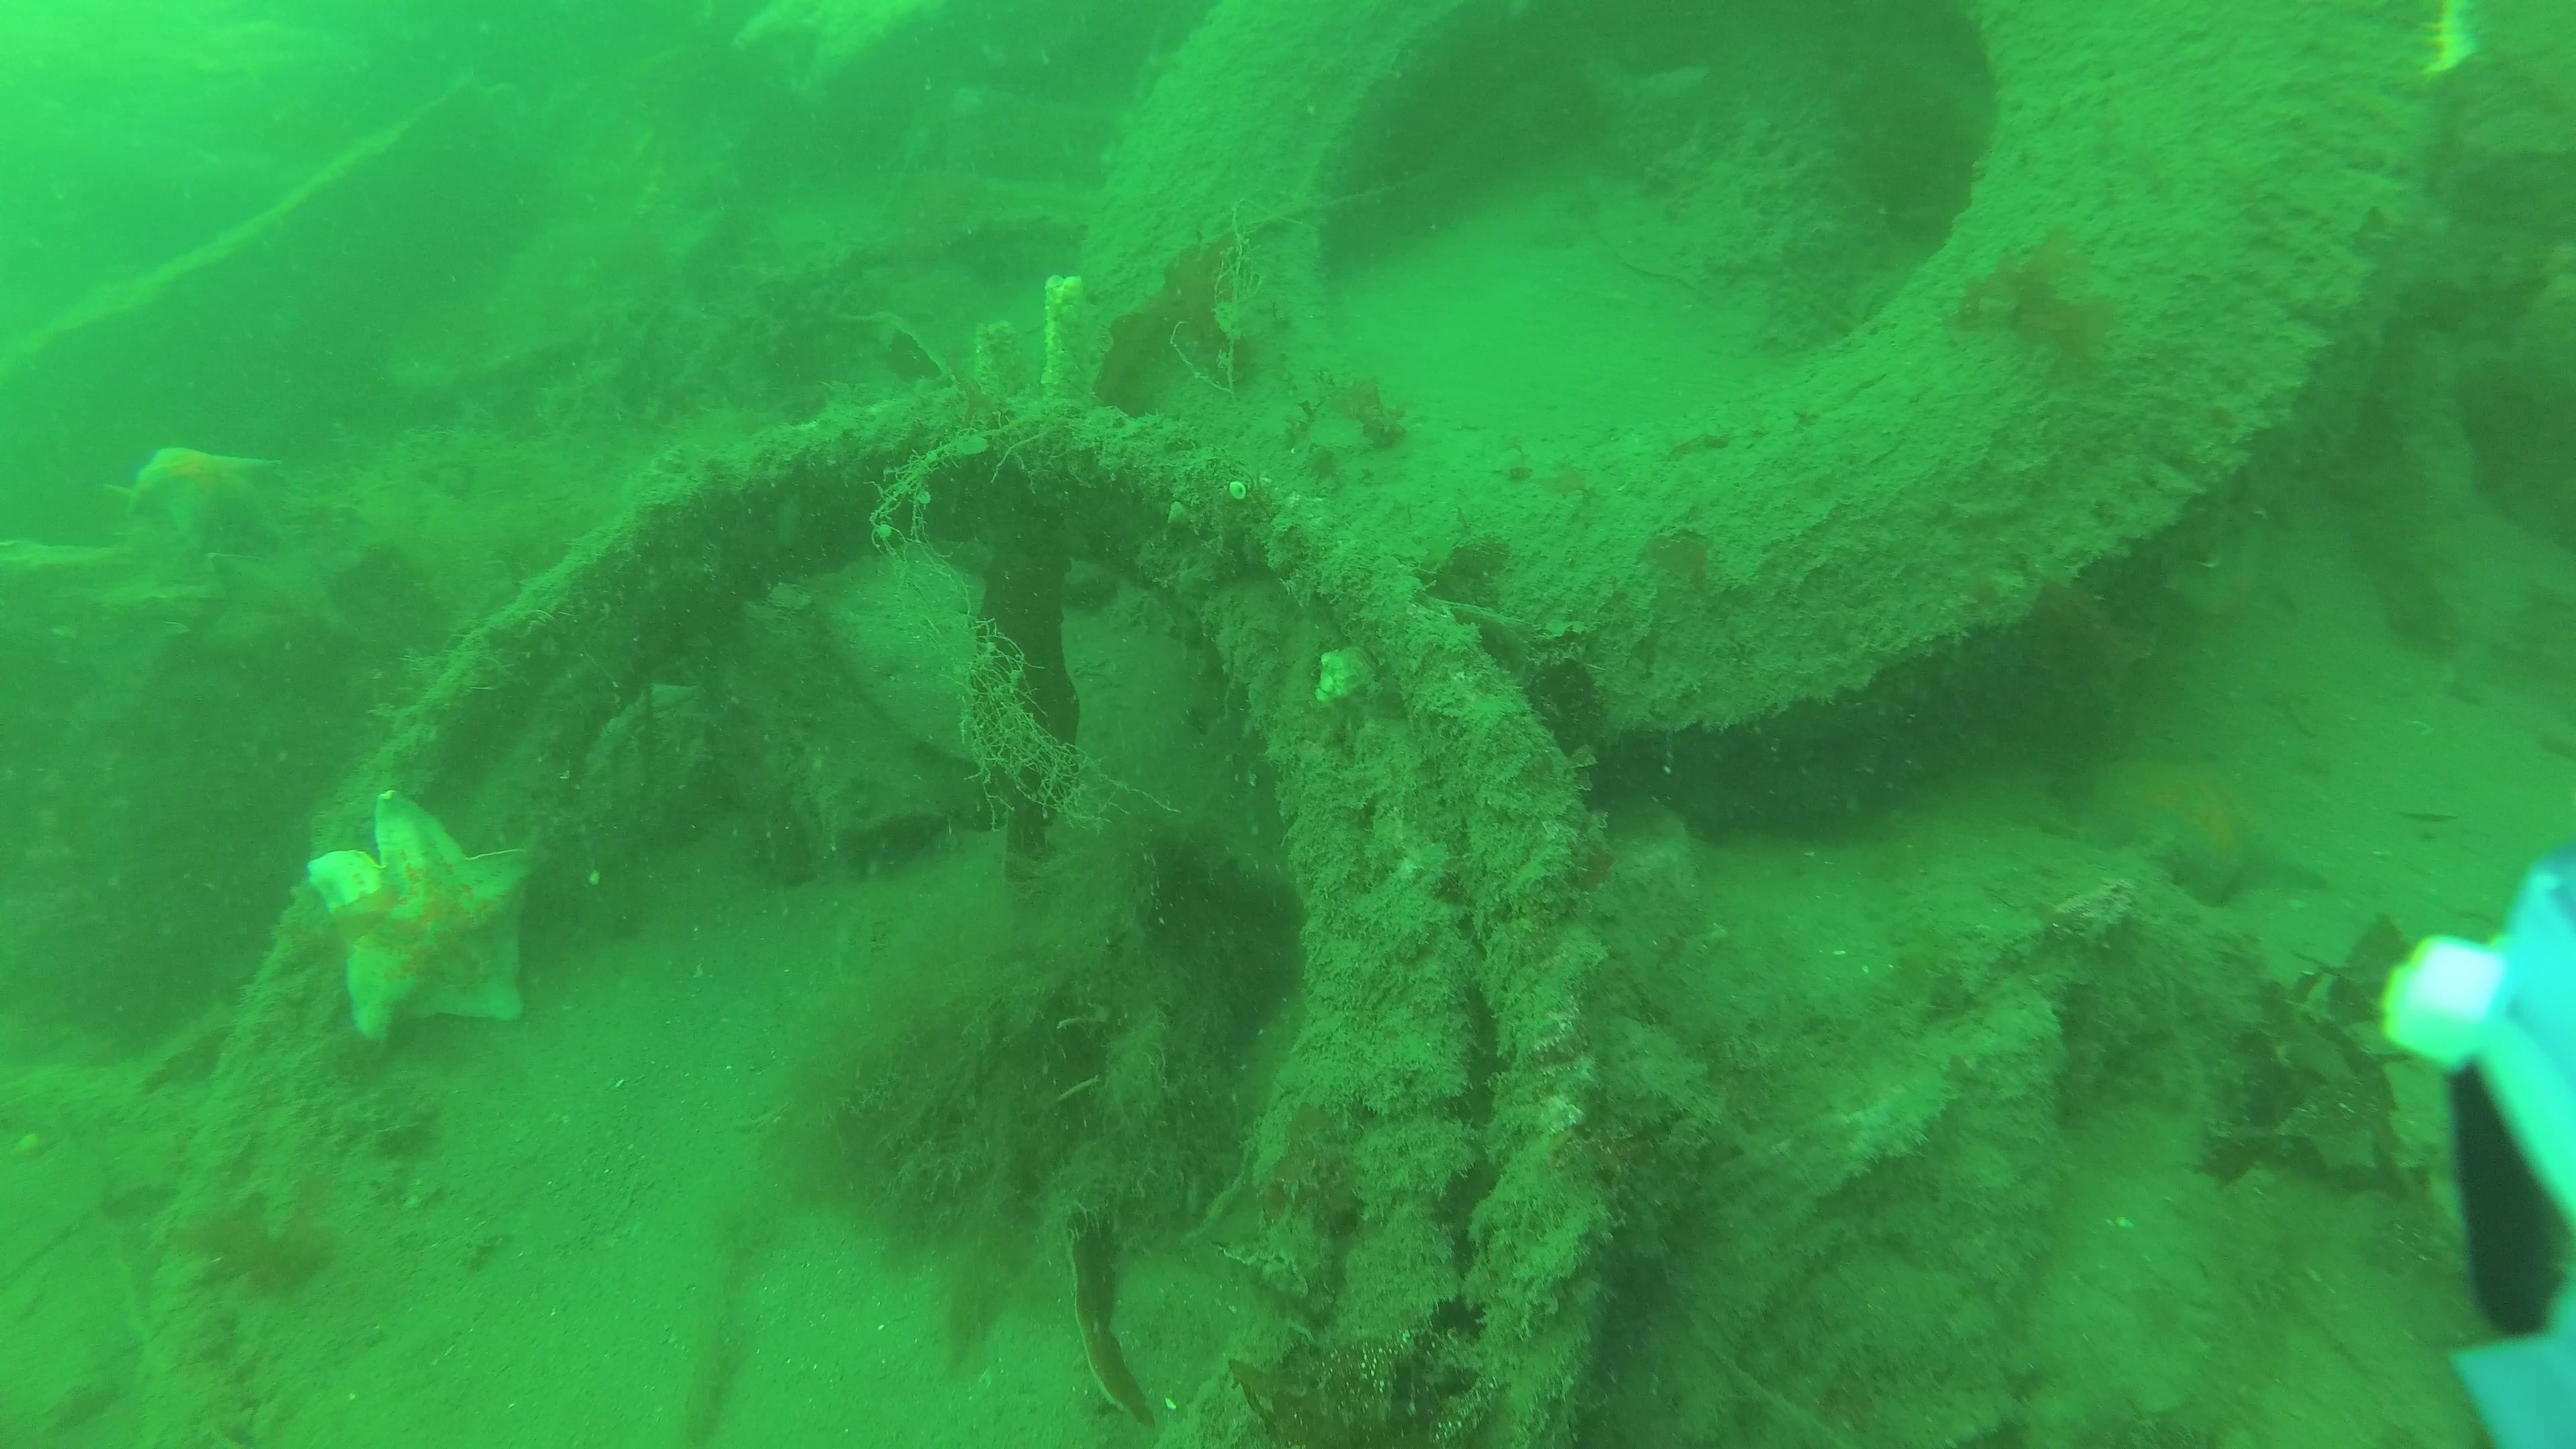starfish: (301, 789, 533, 1033), (2065, 741, 2327, 902), (195, 540, 366, 694), (119, 444, 272, 554)
